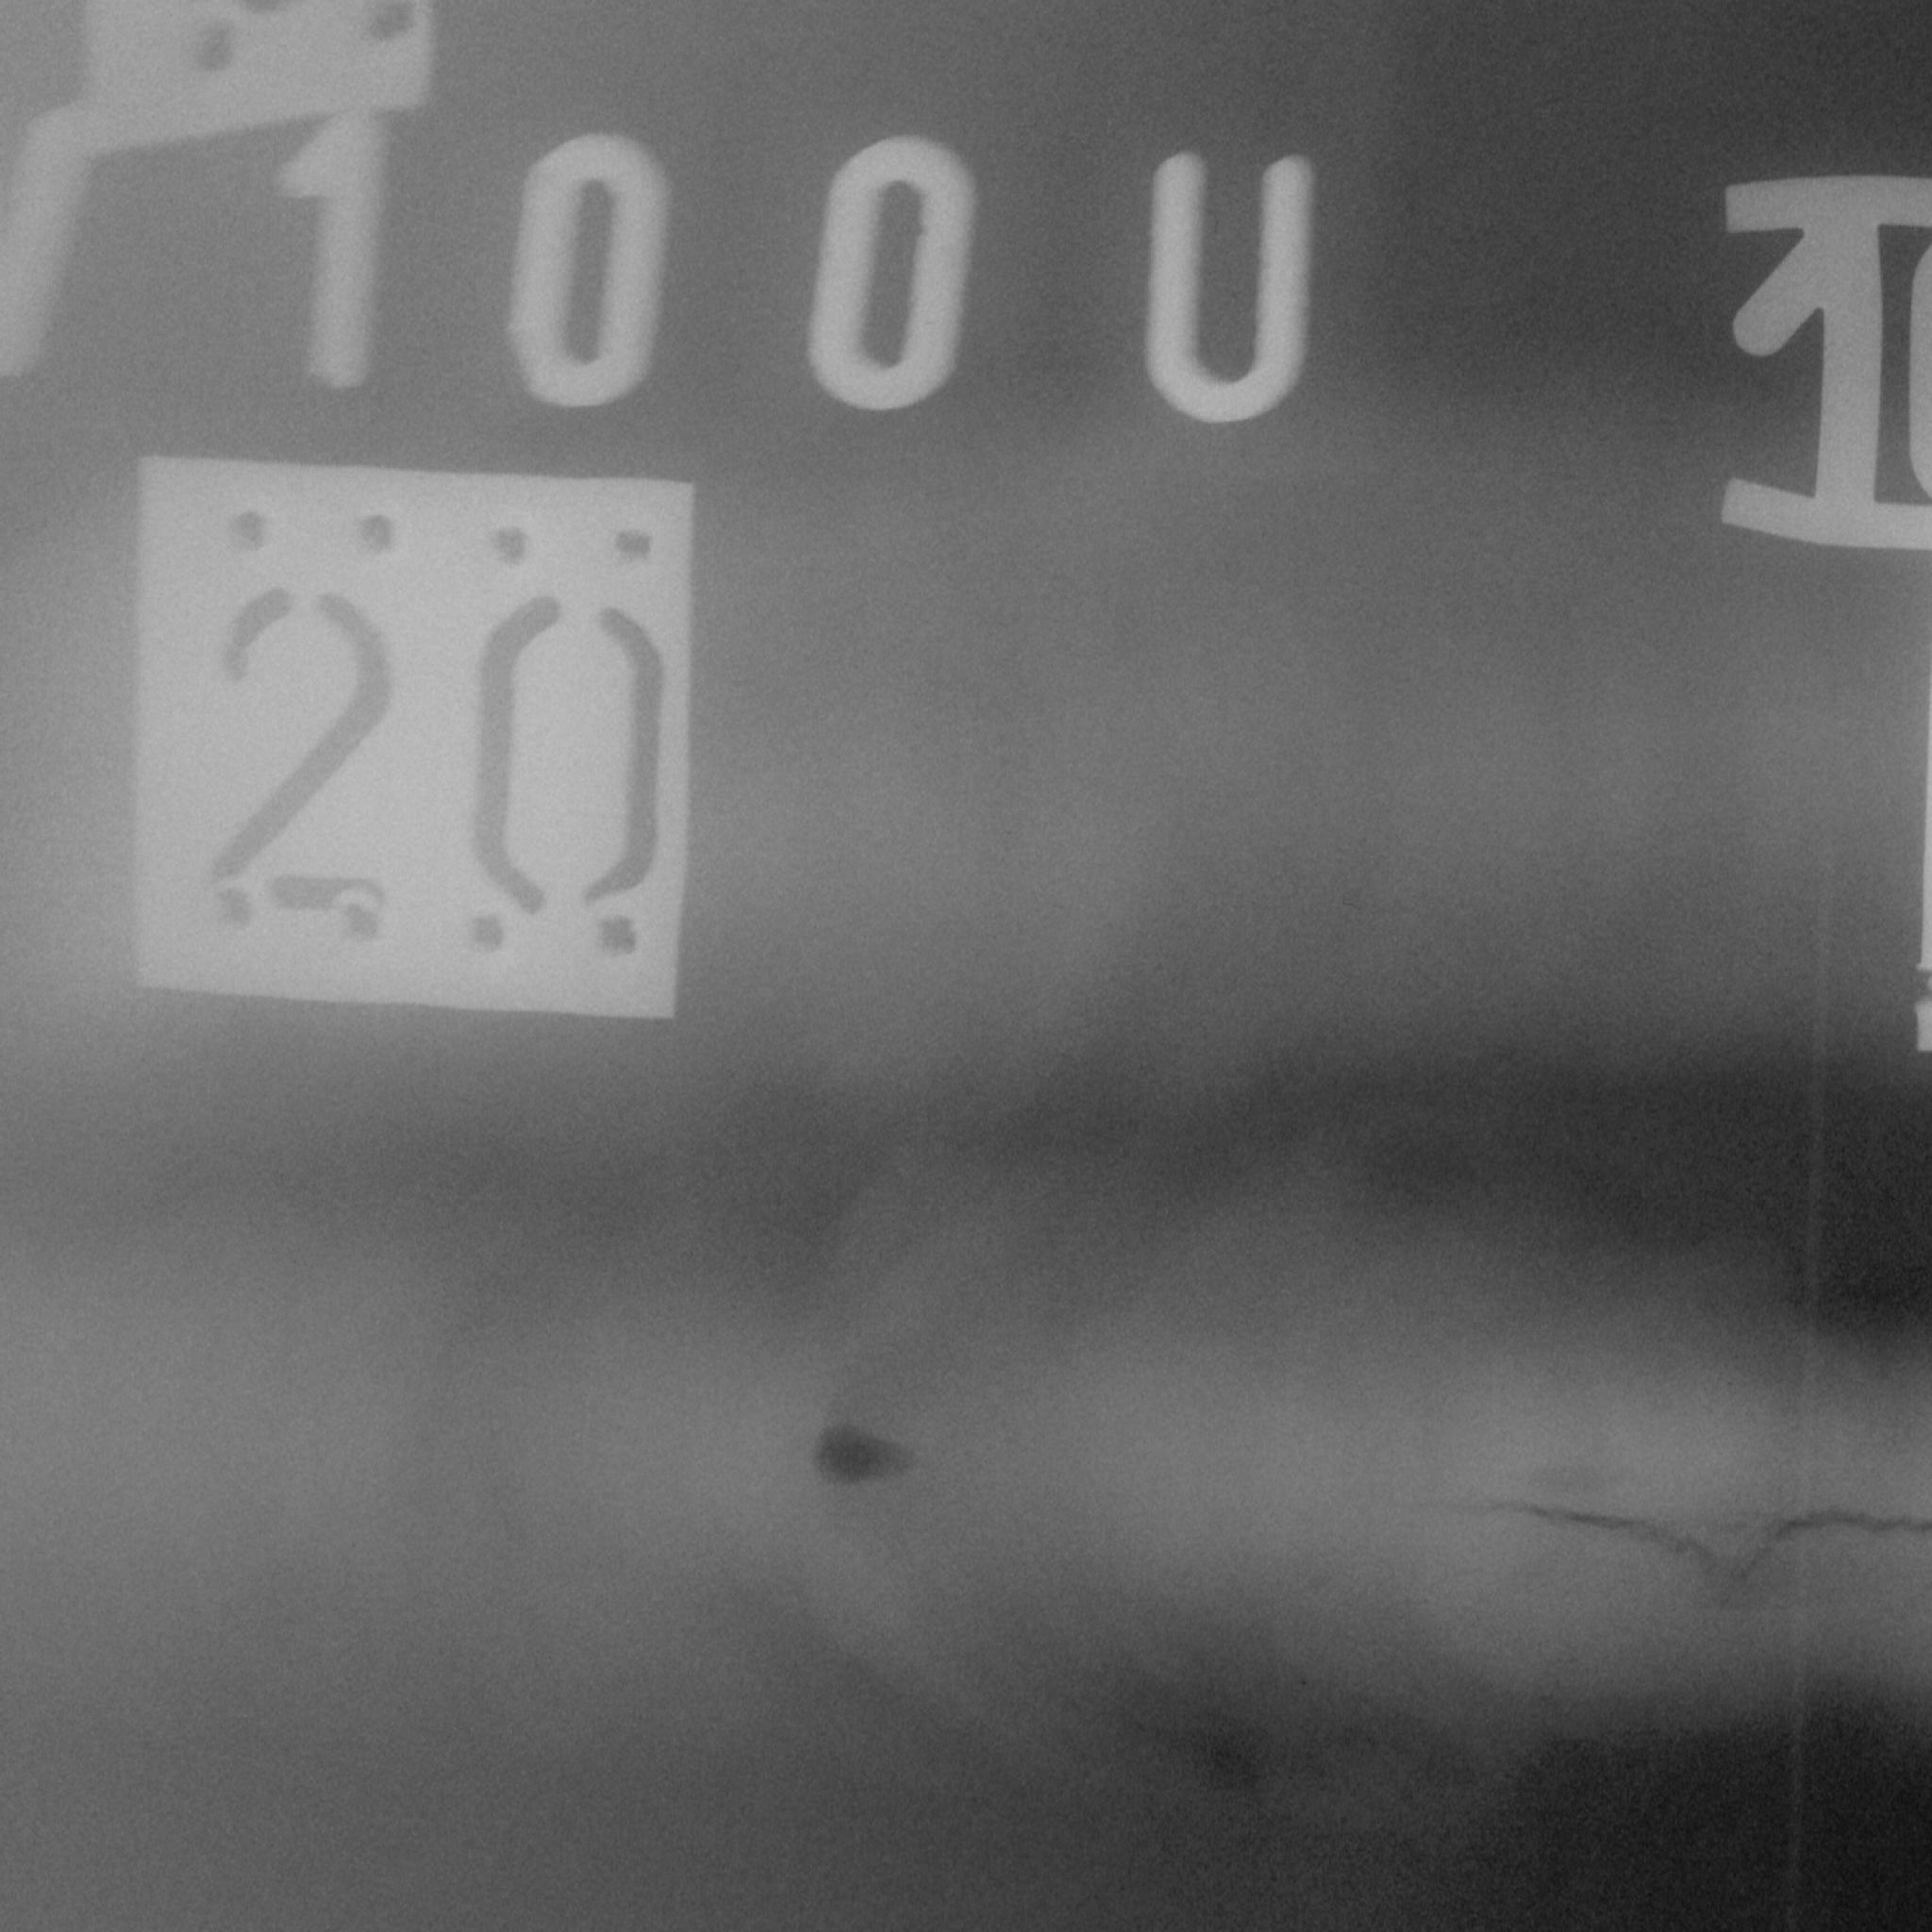Solda Ruim: (0, 1041, 1932, 1932)
